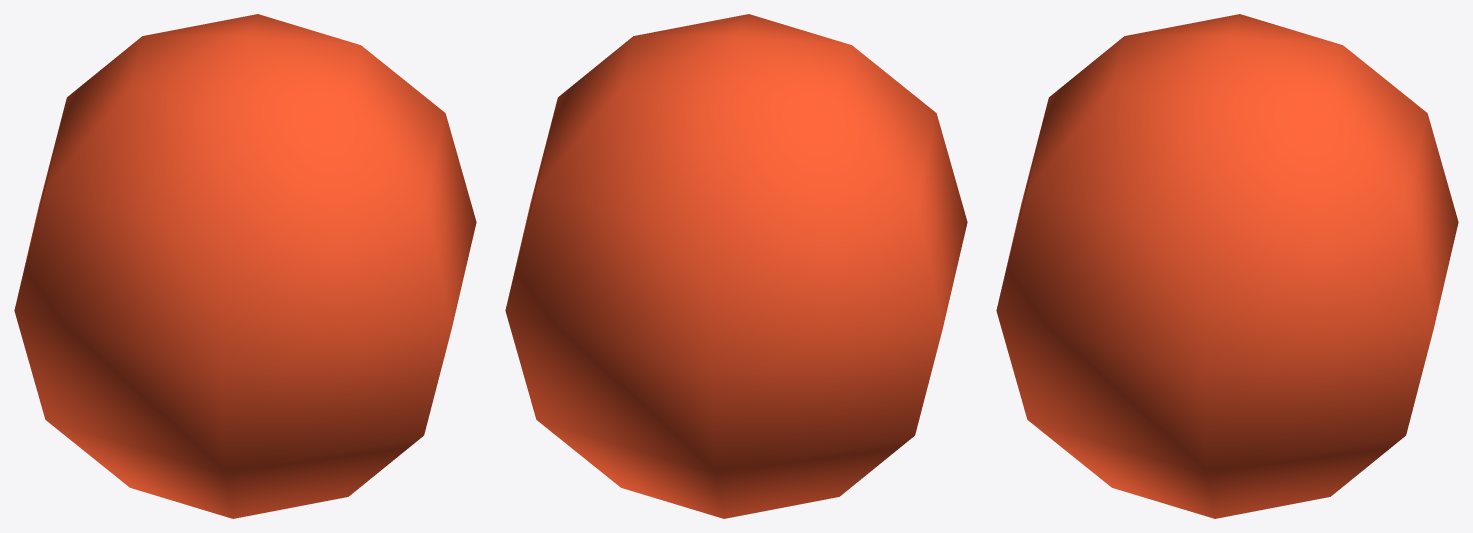
File: Orange.fbx
The picture shows the model from 3 angles, left to right: view 1: azimuth 30°, elevation 25°; view 2: azimuth 150°, elevation 25°; view 3: azimuth 270°, elevation 25°; orthographic projection.
Visible parts, largest first — view 1: Sphere; view 2: Sphere; view 3: Sphere.
Part boxes in pixels (<box>): Sphere: <box>14,14,476,518</box>; Sphere: <box>505,14,967,518</box>; Sphere: <box>996,14,1458,518</box>.
Bounding box in the file's own units: 37.55 × 37.73 × 34.37.
